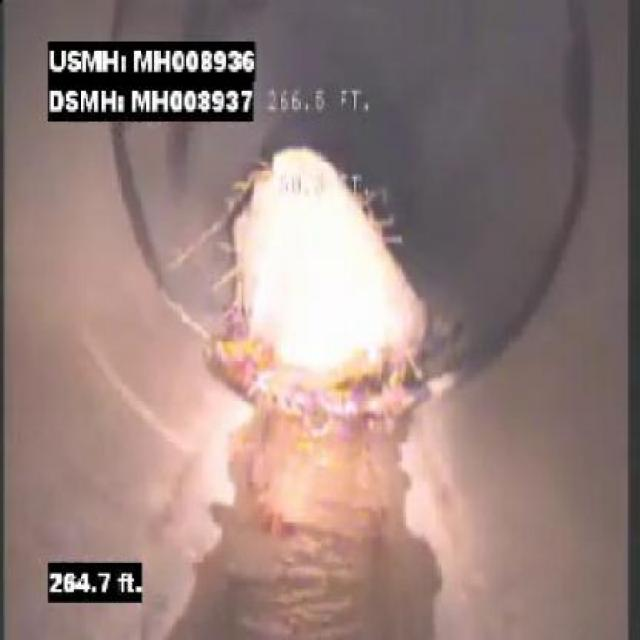Obstacle: (192, 131, 450, 415)
